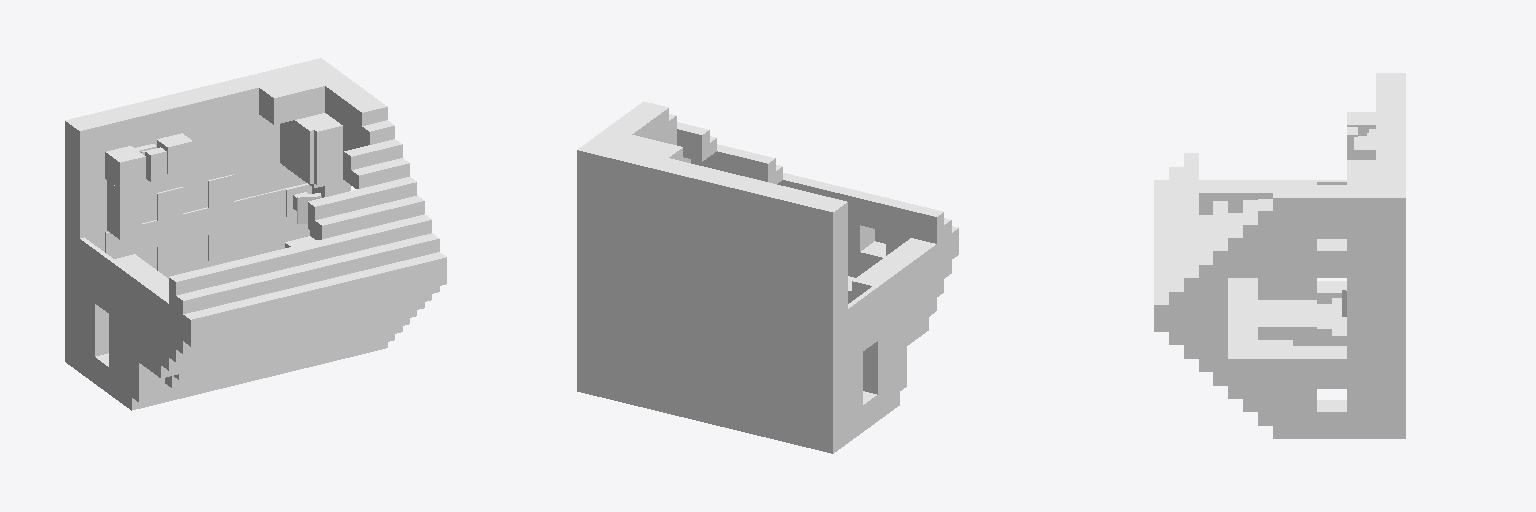
File: house_frame.obj
3 views of the same model, side by side, from view 1: azimuth 30°, elevation 25°; view 2: azimuth 150°, elevation 25°; view 3: azimuth 270°, elevation 25° (orthographic).
Parts seen in each view (by area): view 1: New_World_(1)__-669_64_-139_to_-660_255_-131; view 2: New_World_(1)__-669_64_-139_to_-660_255_-131; view 3: New_World_(1)__-669_64_-139_to_-660_255_-131.
Part boxes in pixels (x1,y1,x2,y2): New_World_(1)__-669_64_-139_to_-660_255_-131: (65,58,446,410); New_World_(1)__-669_64_-139_to_-660_255_-131: (577,101,958,453); New_World_(1)__-669_64_-139_to_-660_255_-131: (1154,73,1405,438).
Bounding box in the file's own units: 10 × 9 × 8.5.